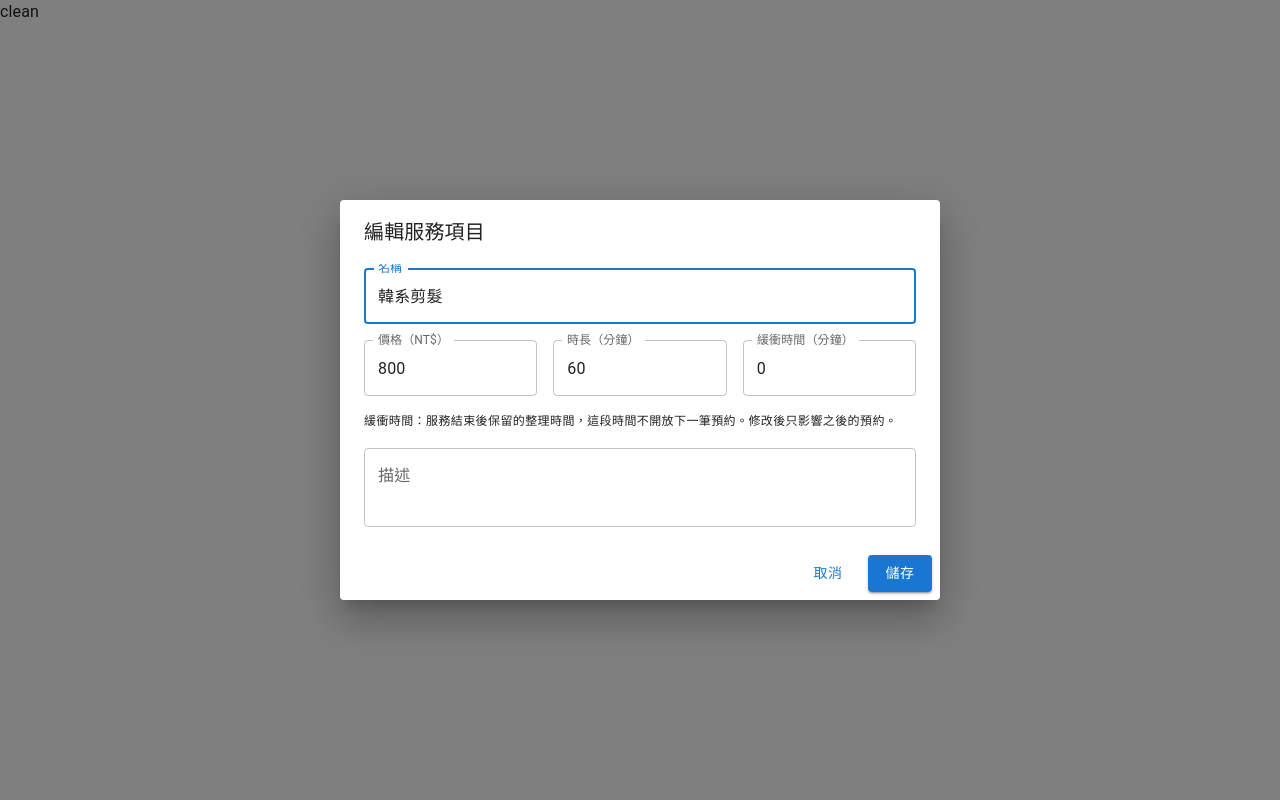
ServiceFormDialog 未儲存變更（TASK-083，key: service-form） › 關閉攔截 › 有變更點背景：先提示、不關閉
Replace the text in the field labelled "名稱" with "別的名字" at (640, 296), box [364,268,916,324]
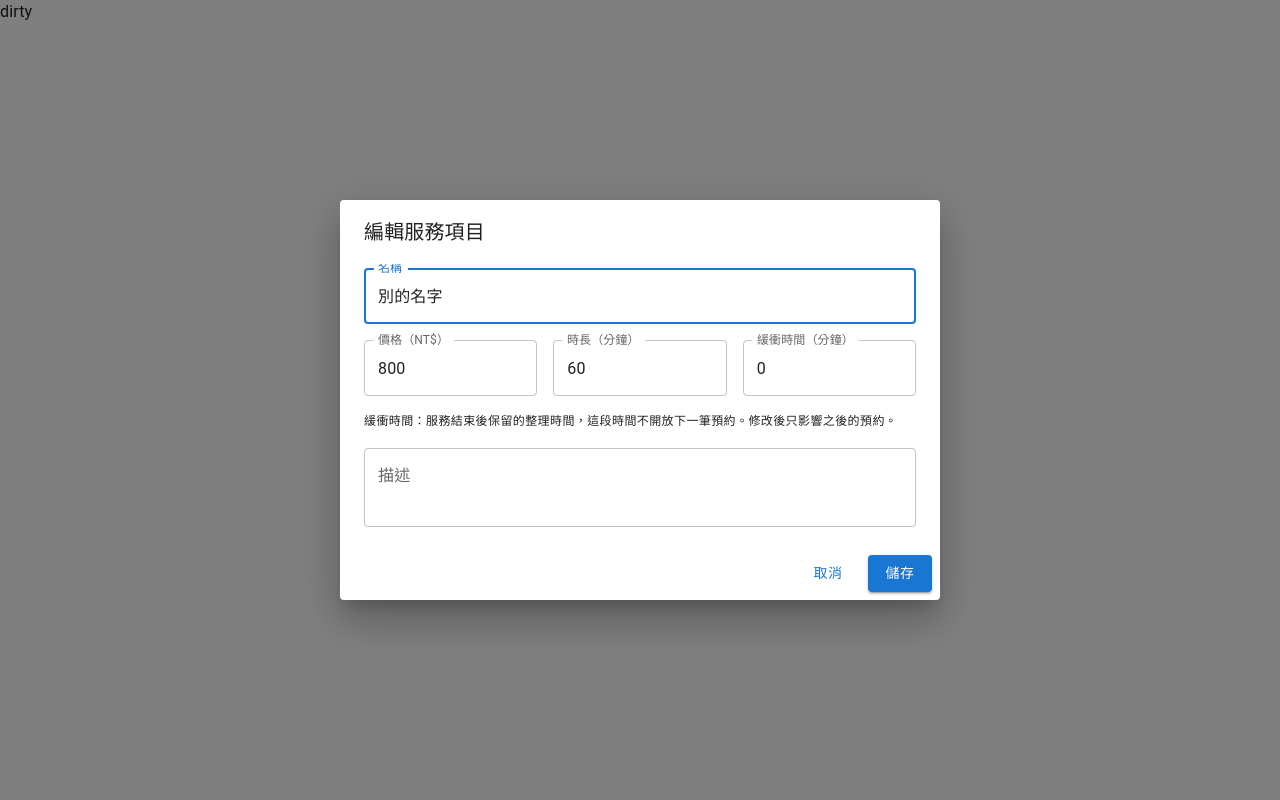
Click the element that starts with "編輯服務項目".
click(640, 400)  # box [340,200,940,600]
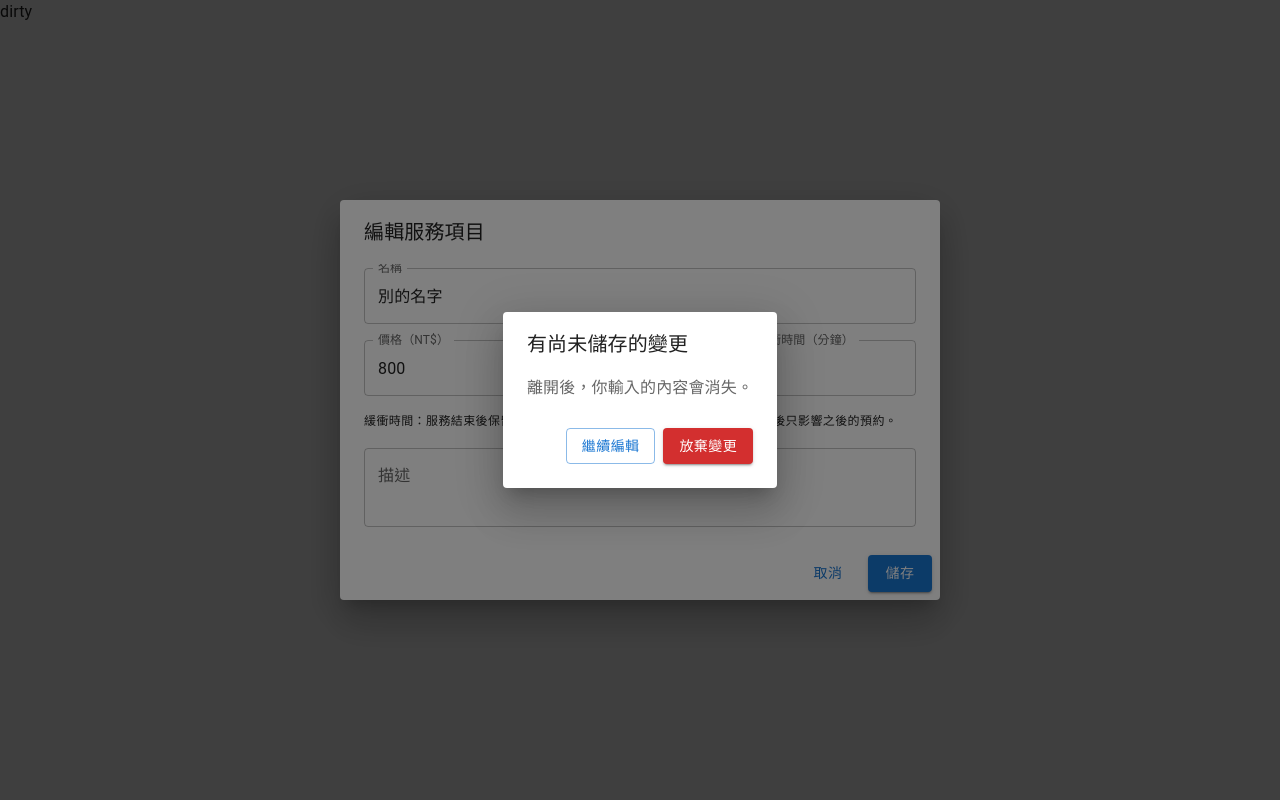
Now the heading "有尚未儲存的變更" is shown, box [527,332,688,356]
